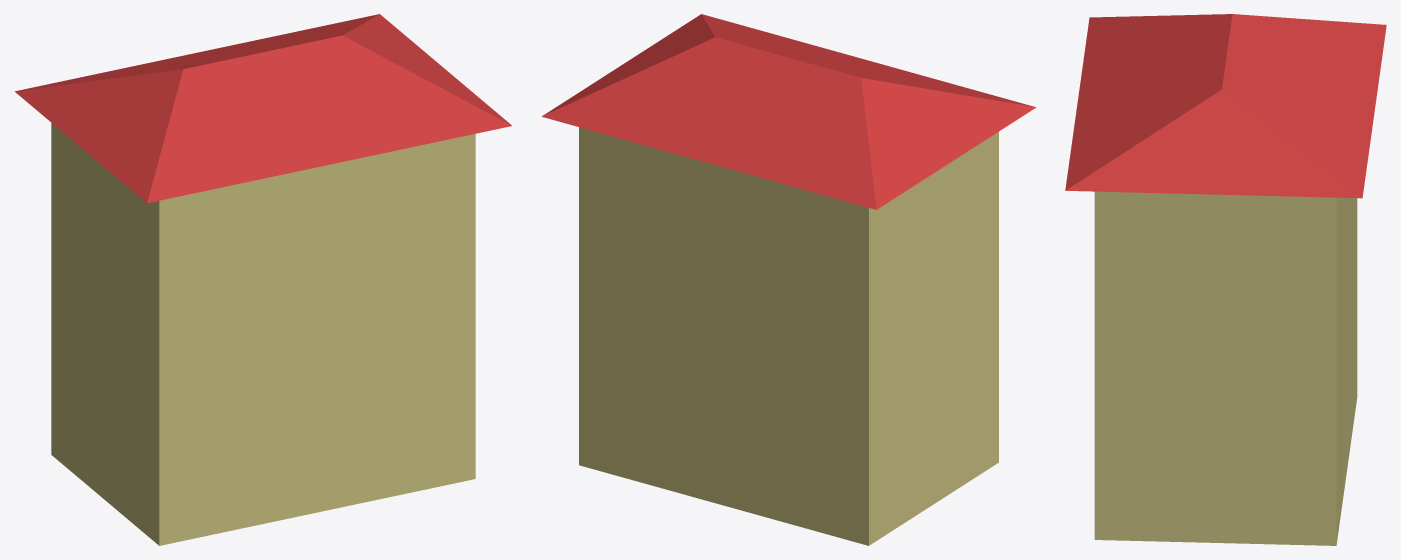
3 renders of one model, left to right at view 1: azimuth 30°, elevation 25°; view 2: azimuth 150°, elevation 25°; view 3: azimuth 270°, elevation 25°, orthographic. The views are drawn at different scales.
Parts seen in each view (by area): view 1: group_5, group_3, group_4; view 2: group_5, group_3, group_4; view 3: group_5, group_3, group_4.
Part boxes in pixels (x1,y1,x2,y2): group_5: [51, 123, 475, 545]; group_3: [14, 14, 511, 202]; group_4: [17, 14, 511, 203]; group_5: [579, 127, 998, 545]; group_3: [542, 14, 1035, 209]; group_4: [542, 14, 1034, 209]; group_5: [1094, 191, 1357, 545]; group_3: [1065, 14, 1380, 198]; group_4: [1065, 17, 1386, 197].
Size of the model in its own units: 7.72 by 5.8 by 8.29.
